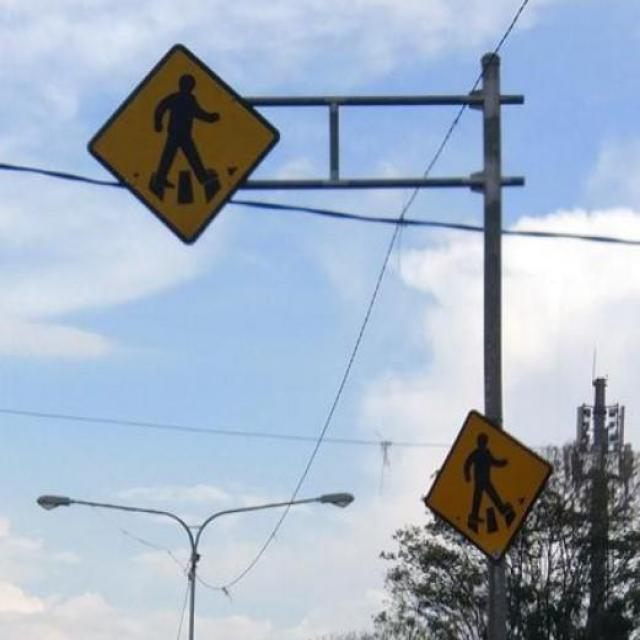traffic sign: (91, 46, 278, 248), (425, 414, 552, 562)
